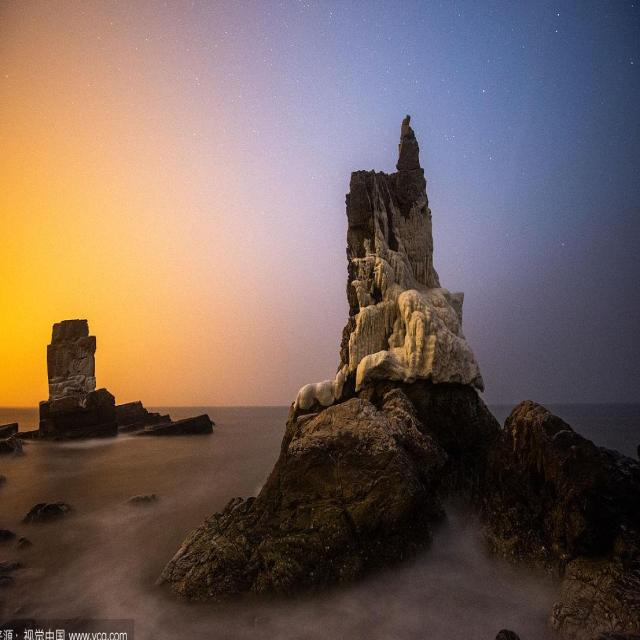reef: (24, 288, 212, 432)
